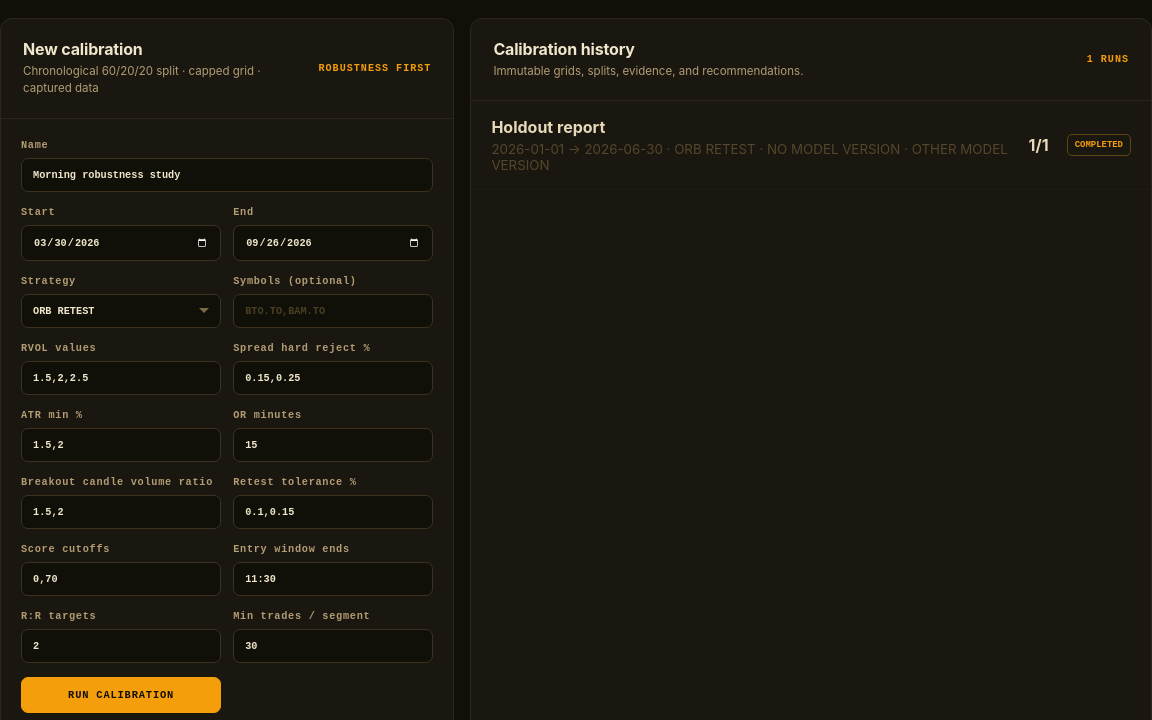
it: Calibration holdout presentation › renders unevaluated TEST explicitly and preserves legacy metrics (legacy=true)
Click the button "Holdout report". click: click(811, 146)
box: left=471, top=101, right=1151, bottom=190
(page scrolled)
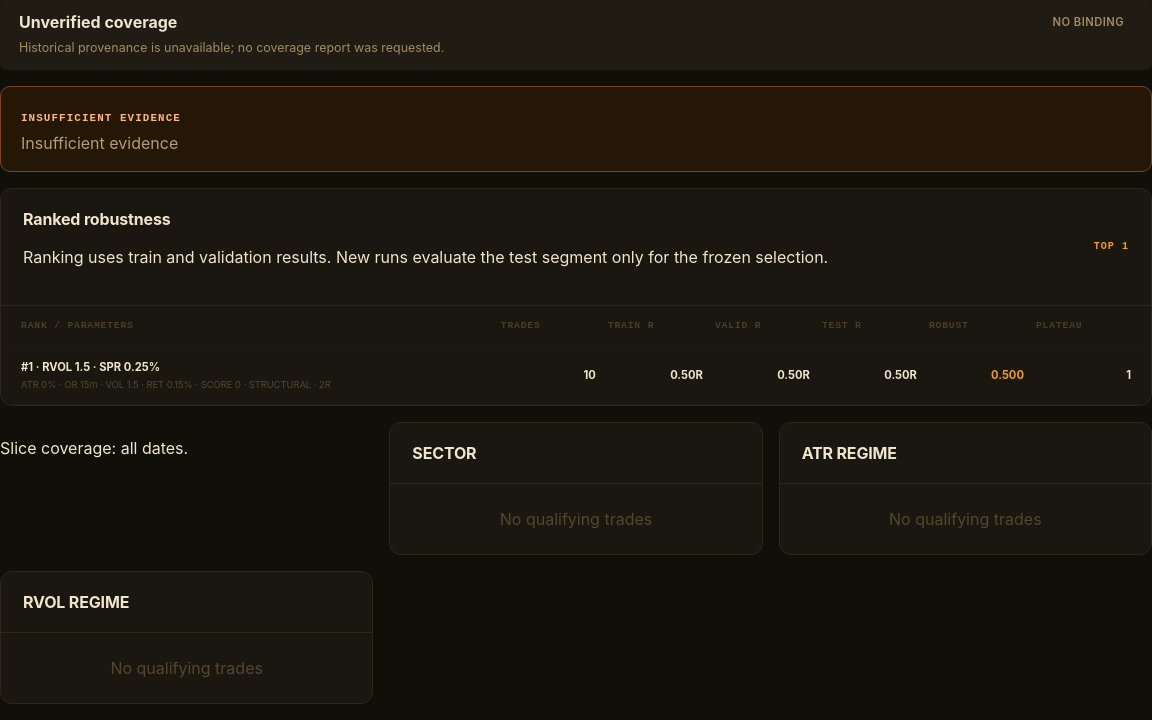
Expected: the text "Slice coverage: all dates." is shown, left=0, top=438, right=188, bottom=458
Expected: the text "0.50R" is shown 3 times, left=670, top=368, right=703, bottom=382; left=777, top=368, right=810, bottom=382; left=884, top=368, right=917, bottom=382
